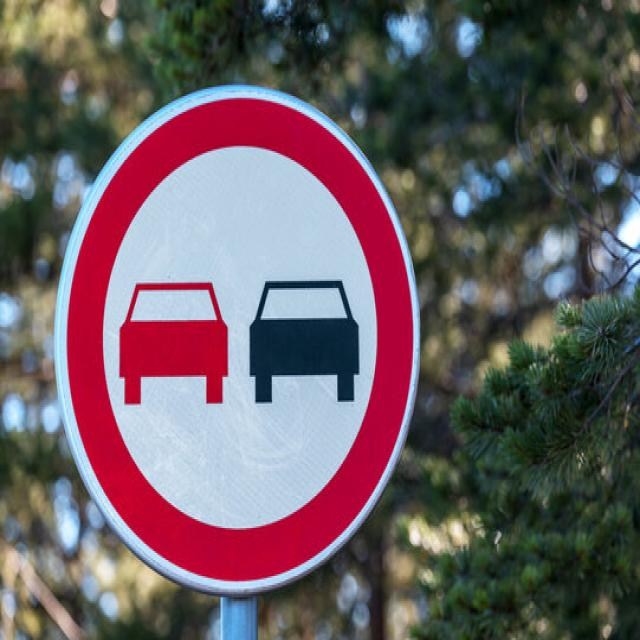no overtaking: (49, 82, 423, 601)
